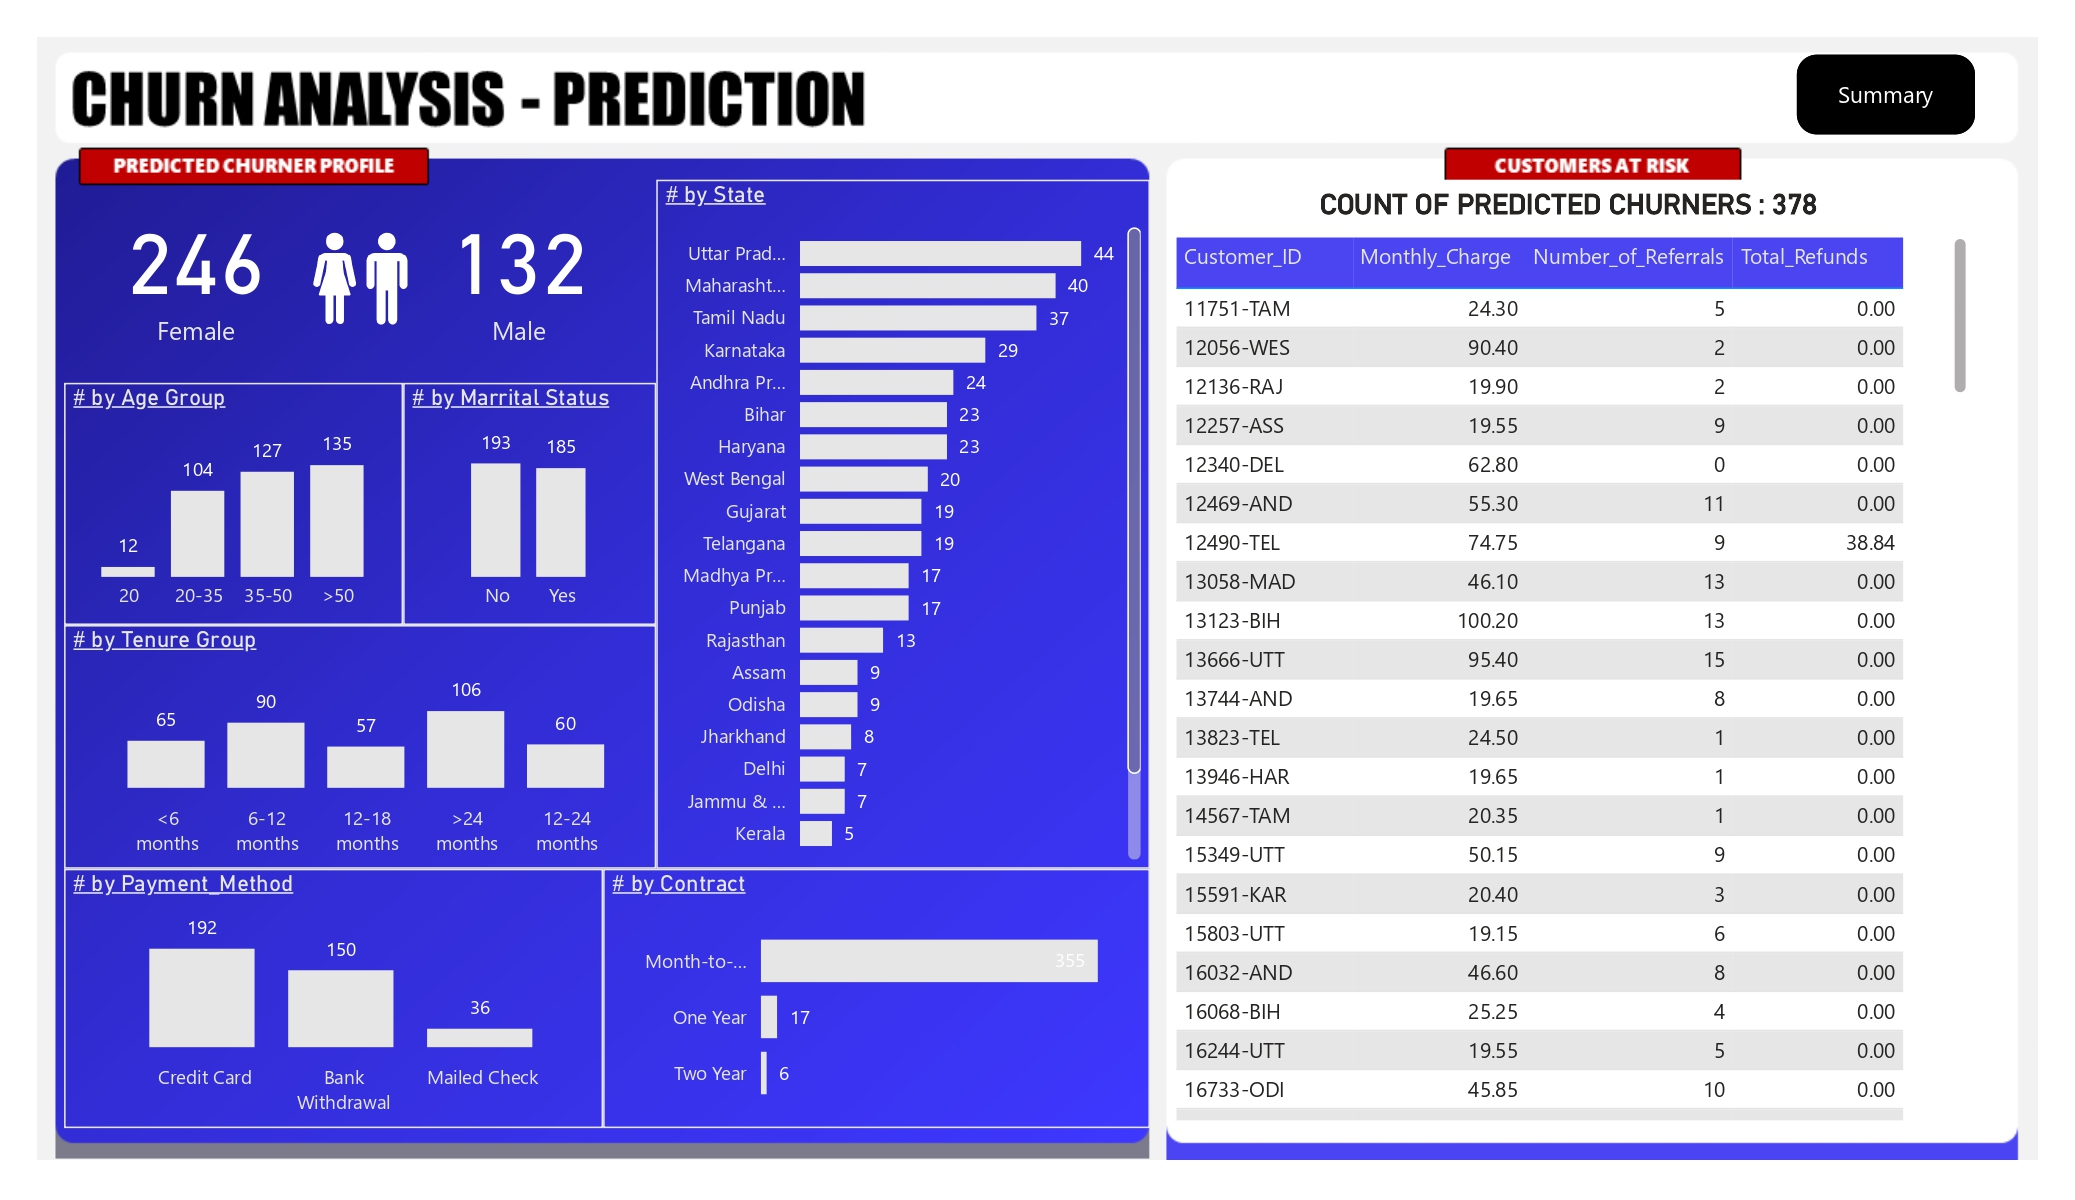

Layout of this report page (visuals, bound fields, positions):
{"tool":"powerbi","page":{"name":"Churn Prediction","canvas":[1280,720],"ordinal":2},"visuals":[{"type":"tableEx","fields":{"Values":["prediction-data1.Customer_ID","prediction-data1.Monthly_Charge","prediction-data1.Number_of_Referrals","prediction-data1.Total_Refunds"]},"box":[723.4,123.1,516.3,575.1],"z":0},{"type":"card","fields":{"Values":["tbl_Measure.Title Predicted Churner"]},"box":[810.1,90.9,340,32.2],"z":1000},{"type":"card","fields":{"Values":["tbl_Measure.Count Predicted Churner"]},"box":[9.8,77,183.3,144.1],"z":2000},{"type":"card","fields":{"Values":["tbl_Measure.Count Predicted Churner"]},"box":[219.7,77,176.3,144.1],"z":3000},{"type":"clusteredColumnChart","fields":{"Category":["mapping_AgeGrp.Age Group"],"Y":["CountNonNull(prediction-data1.Customer_ID)"]},"box":[16.8,221.1,216.9,155.3],"z":4000},{"type":"clusteredColumnChart","fields":{"Category":["prediction-data1.Married"],"Y":["CountNonNull(prediction-data1.Customer_ID)"]},"box":[233.7,221.1,162.3,155.3],"z":5000},{"type":"clusteredColumnChart","fields":{"Category":["mapping_TenureGrp.Tenure Group"],"Y":["CountNonNull(prediction-data1.Customer_ID)"]},"box":[16.8,376.4,379.2,155.3],"z":6000},{"type":"clusteredBarChart","fields":{"Category":["prediction-data1.Contract"],"Y":["CountNonNull(prediction-data1.Customer_ID)"]},"box":[362.4,531.7,349.8,166.5],"z":7000},{"type":"clusteredColumnChart","fields":{"Category":["prediction-data1.Payment_Method"],"Y":["CountNonNull(prediction-data1.Customer_ID)"]},"box":[16.8,531.7,345.6,166.5],"z":8000},{"type":"image","box":[163.7,110.5,85.4,85.4],"z":9000},{"type":"clusteredBarChart","fields":{"Category":["prediction-data1.State"],"Y":["CountNonNull(prediction-data1.Customer_ID)"]},"box":[396,90.9,316.2,440.8],"z":10000},{"type":"shape","box":[1126.4,11.2,113.3,50.4],"z":11000}]}

Visuals, with their boxes on the page's 1280x720 design canvas (x1, y1, x2, y2). These are canvas units, not pixel positions in the 2075x1200 screenshot, which may show the page scaled, cropped or inside an application window:
tableEx - prediction-data1.Customer_ID x prediction-data1.Monthly_Charge: (723, 123, 1240, 698)
card - tbl_Measure.Title Predicted Churner: (810, 91, 1150, 123)
card - tbl_Measure.Count Predicted Churner: (10, 77, 193, 221)
card - tbl_Measure.Count Predicted Churner: (220, 77, 396, 221)
clusteredColumnChart - mapping_AgeGrp.Age Group x CountNonNull(prediction-data1.Customer_ID): (17, 221, 234, 376)
clusteredColumnChart - prediction-data1.Married x CountNonNull(prediction-data1.Customer_ID): (234, 221, 396, 376)
clusteredColumnChart - mapping_TenureGrp.Tenure Group x CountNonNull(prediction-data1.Customer_ID): (17, 376, 396, 532)
clusteredBarChart - prediction-data1.Contract x CountNonNull(prediction-data1.Customer_ID): (362, 532, 712, 698)
clusteredColumnChart - prediction-data1.Payment_Method x CountNonNull(prediction-data1.Customer_ID): (17, 532, 362, 698)
image: (164, 110, 249, 196)
clusteredBarChart - prediction-data1.State x CountNonNull(prediction-data1.Customer_ID): (396, 91, 712, 532)
shape: (1126, 11, 1240, 62)
